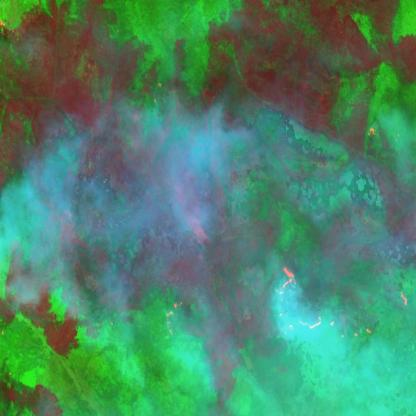fire: (272, 261, 413, 345), (160, 292, 185, 344), (360, 121, 384, 146)
